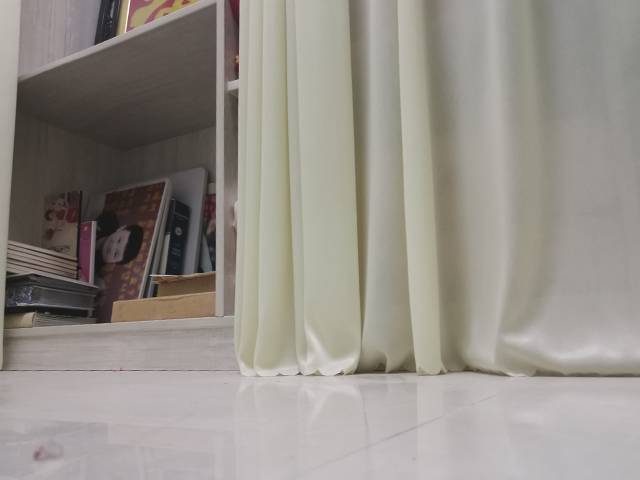cabinet: (1, 1, 242, 374)
curtain: (232, 1, 640, 379)
